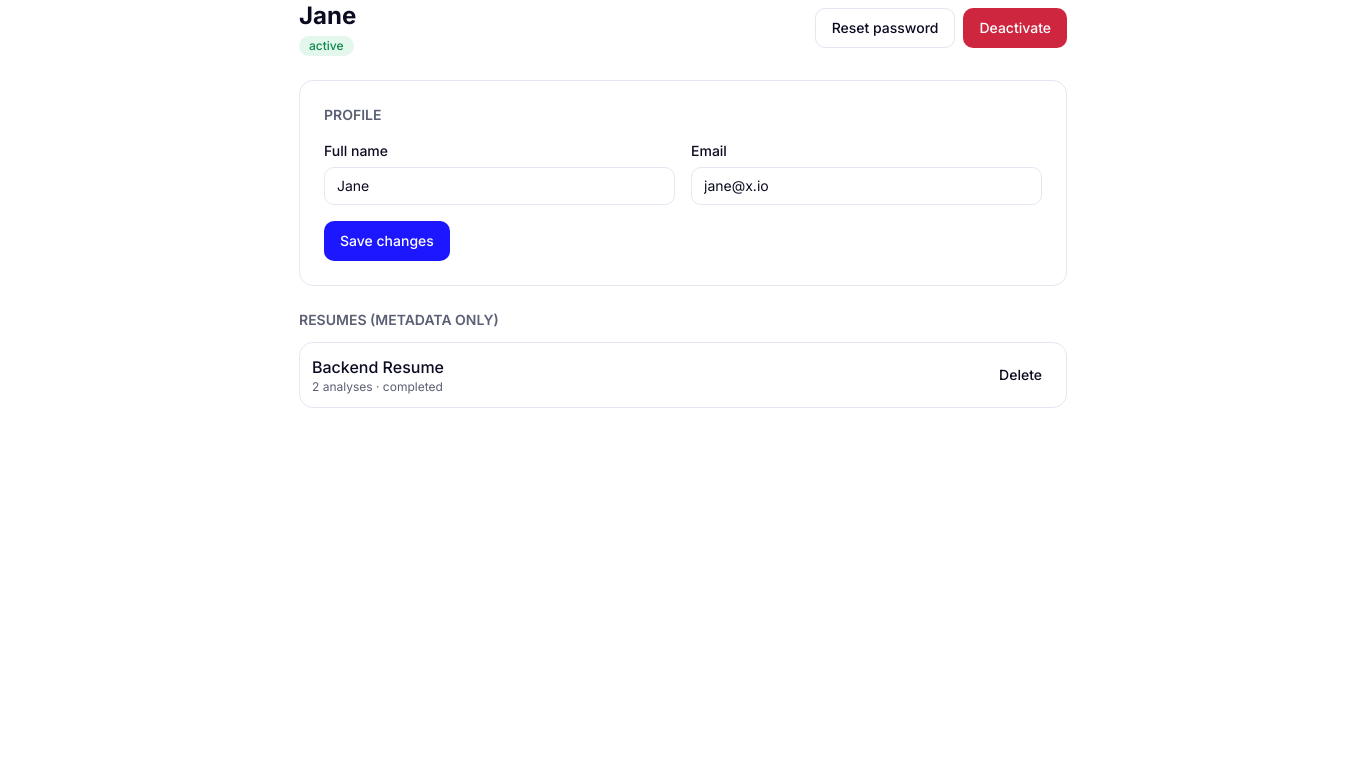
AdminUserDetailPage › edits the profile and deletes a resume (metadata only)
Expected: the text "Backend Resume" is shown, [312, 355, 444, 379]
Replace the text in the field labelled "Full name" with "Jane Doe" at coordinates (500, 186), box [324, 167, 675, 205]
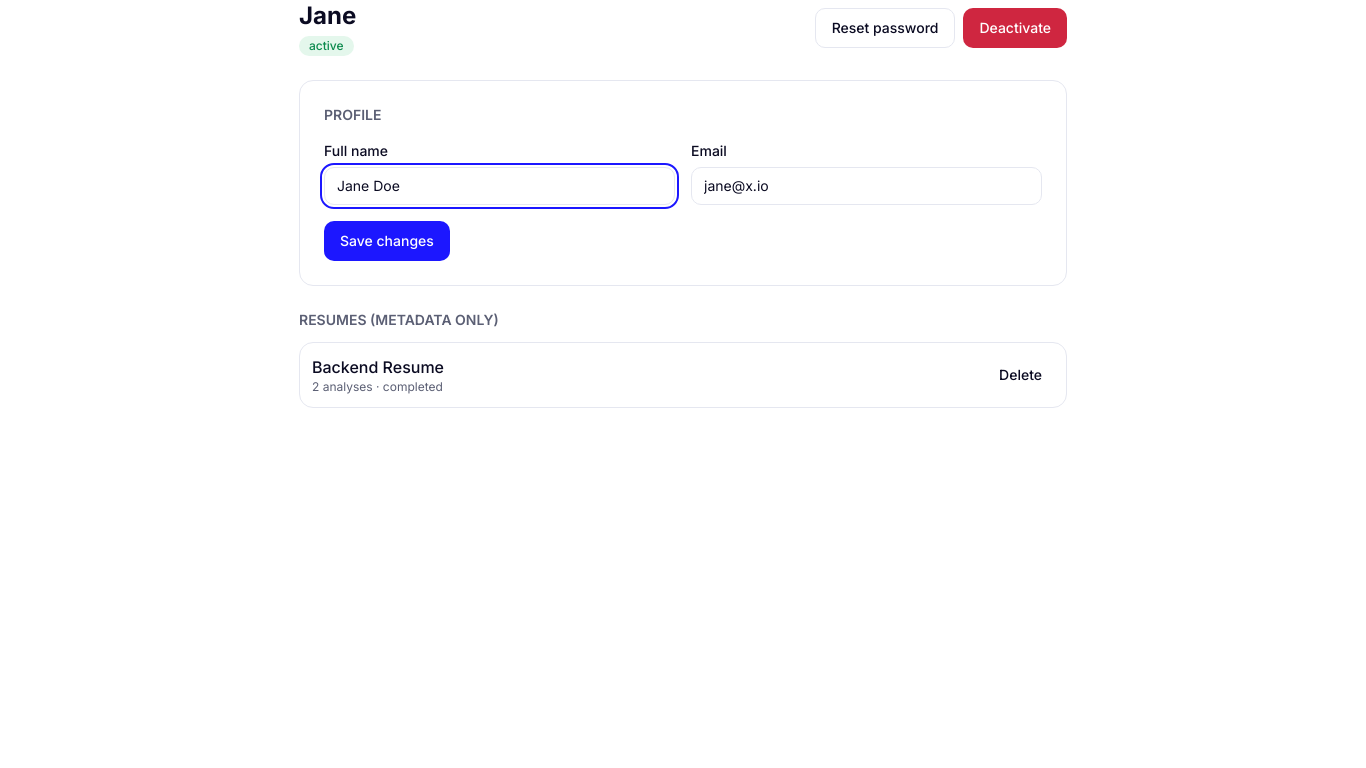
Click the button "Save changes" at coordinates (387, 241), box [324, 221, 450, 261]
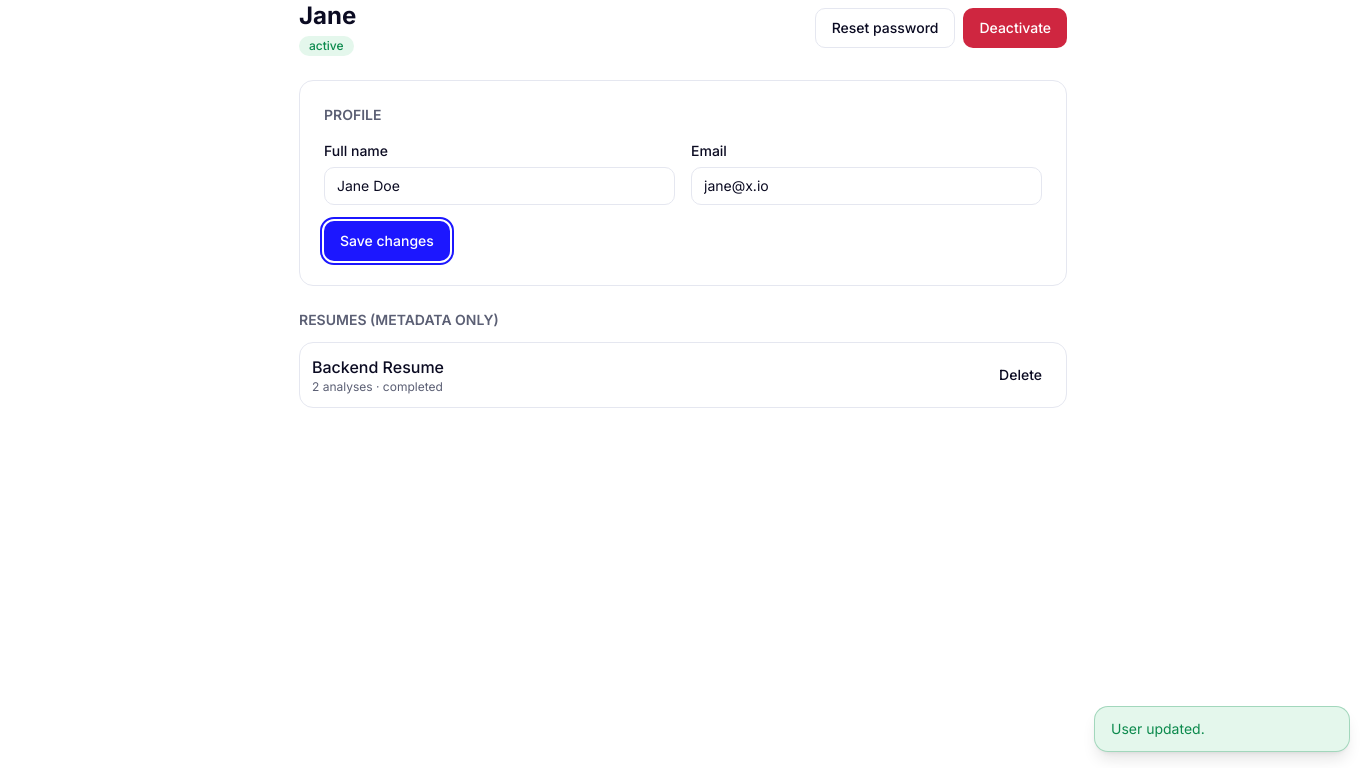
Click the button "Delete" at coordinates (1021, 375), box [987, 359, 1054, 391]
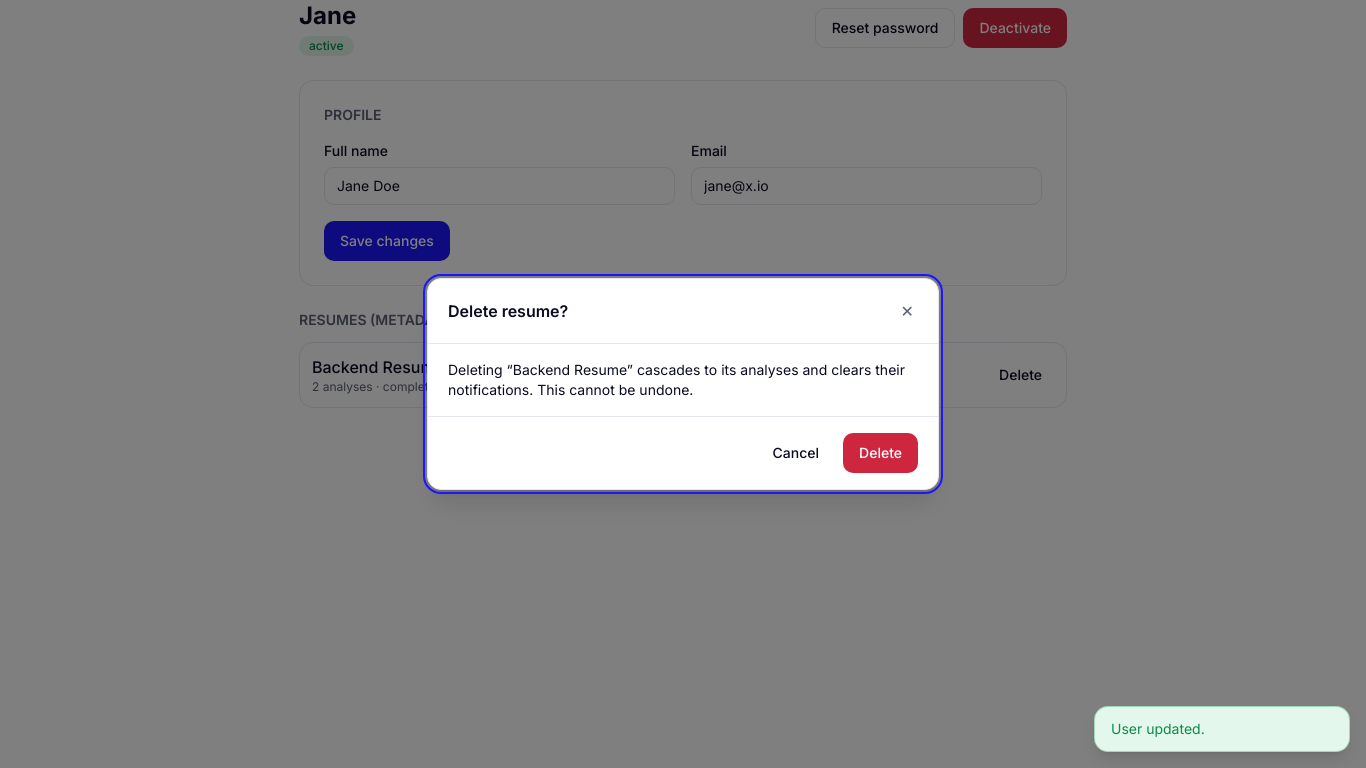
Click the button "Delete" at coordinates (881, 453), box [843, 433, 918, 473]
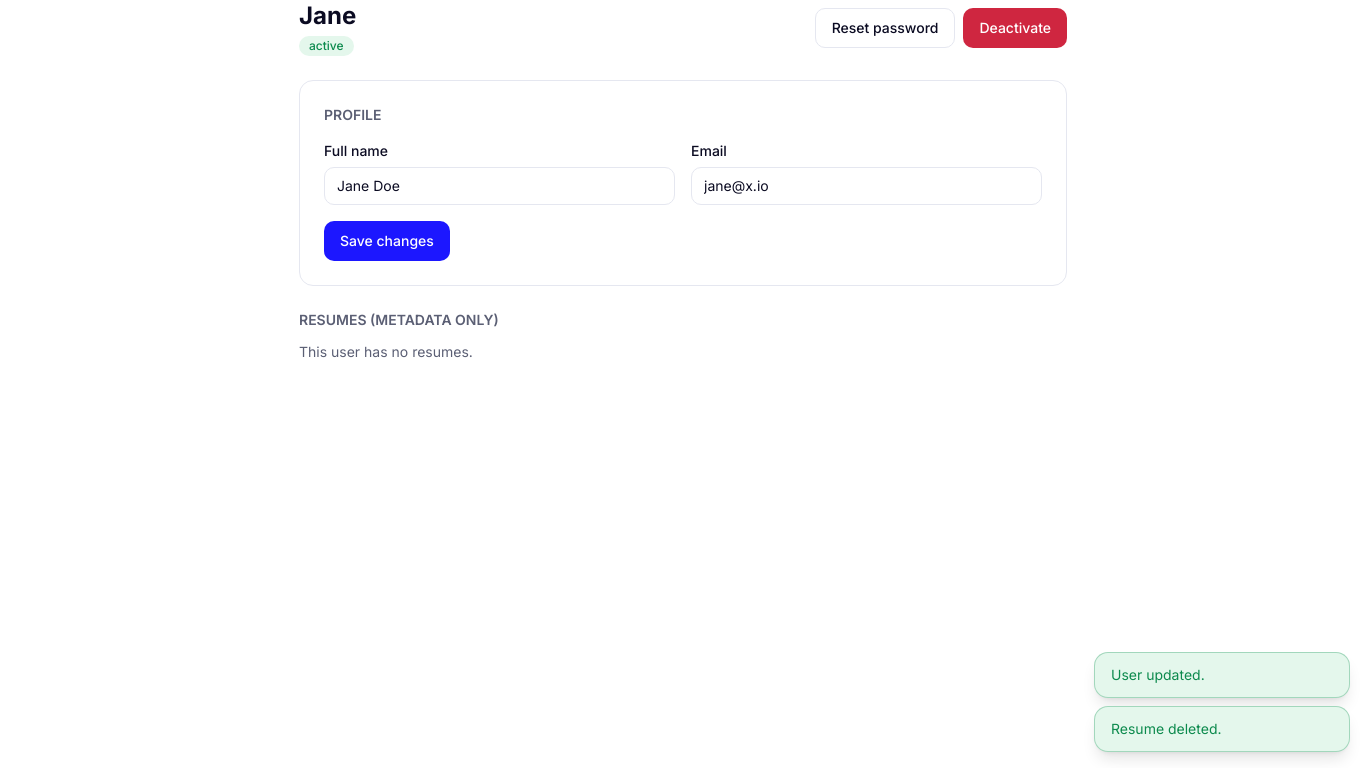
Expected: the text "This user has no resumes." is shown, [299, 343, 473, 360]
